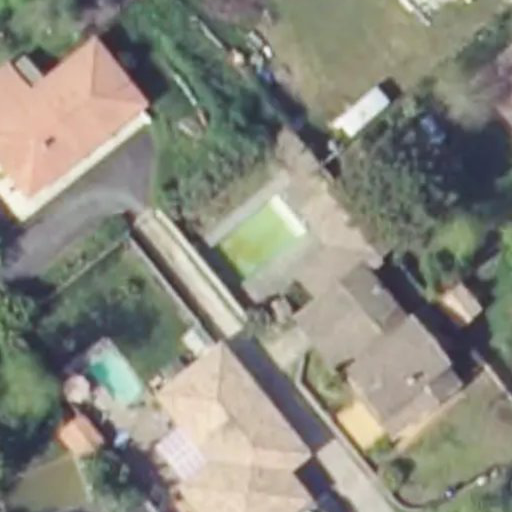pool: (214, 193, 313, 279), (76, 351, 144, 408)
